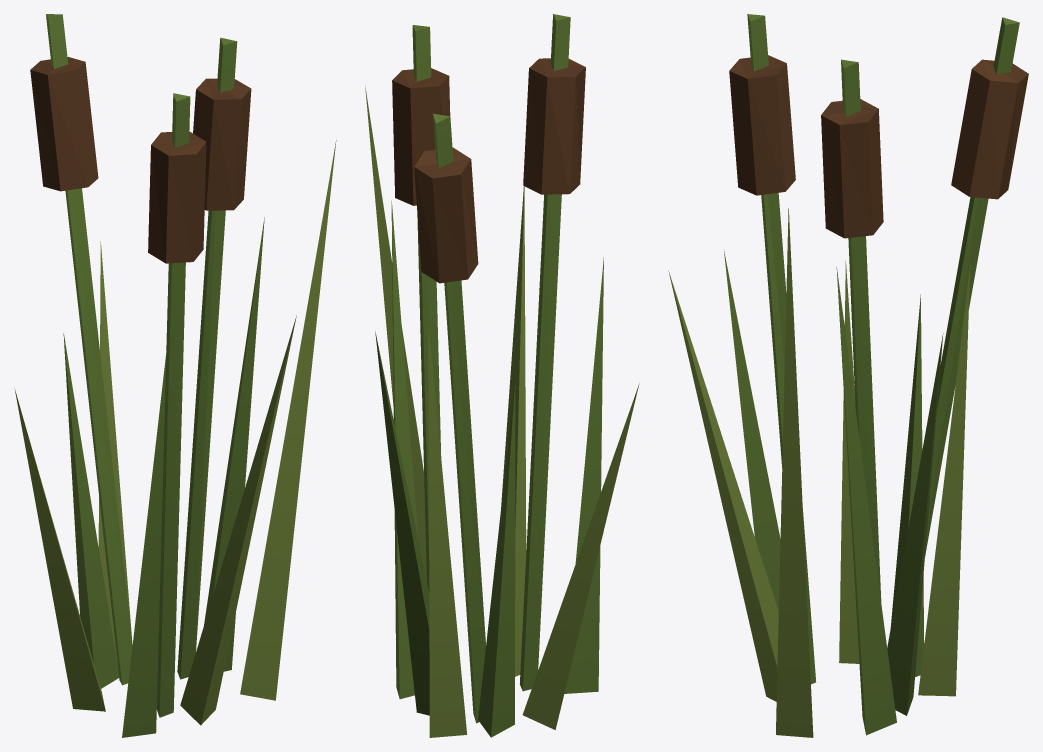
File: reeds_3.glb
The picture shows the model from 3 angles, left to right: view 1: azimuth 30°, elevation 25°; view 2: azimuth 150°, elevation 25°; view 3: azimuth 270°, elevation 25°; orthographic projection. The views are drawn at different scales.
Visible parts, largest first — view 1: reeds_3; view 2: reeds_3; view 3: reeds_3.
Part boxes in pixels (x1,y1,x2,y2): reeds_3: (15, 14, 336, 737); reeds_3: (365, 14, 639, 737); reeds_3: (668, 14, 1028, 737).
Bounding box in the file's own units: 0.1936 × 0.4021 × 0.1969.
